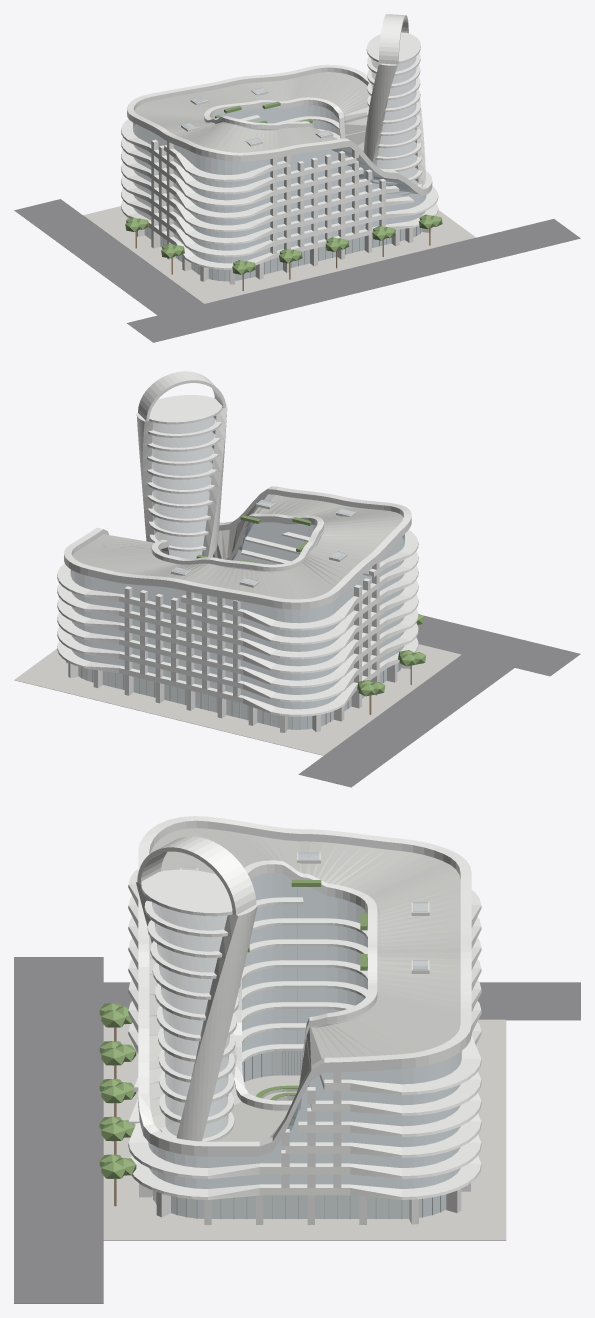
File: clay-sculptural-superblock-clay-v001.glb
3 views of the same model, one above another, from view 1: azimuth 30°, elevation 25°; view 2: azimuth 150°, elevation 25°; view 3: azimuth 270°, elevation 25° (orthographic). The views are drawn at different scales.
Parts seen in each view (by area): view 1: CLAY_WHITE, CLAY_ASPHALT, CLAY_GLASS, CLAY_ROOF, CLAY_PAVING, CLAY_PLANTING, CLAY_PALE; view 2: CLAY_WHITE, CLAY_GLASS, CLAY_ASPHALT, CLAY_ROOF, CLAY_PAVING, CLAY_PLANTING, CLAY_TRIM, CLAY_PALE; view 3: CLAY_WHITE, CLAY_GLASS, CLAY_ASPHALT, CLAY_ROOF, CLAY_PAVING, CLAY_PLANTING, CLAY_TRIM, CLAY_PALE.
Part boxes in pixels (x1,y1,x2,y2): CLAY_WHITE: [121, 14, 438, 284]; CLAY_ASPHALT: [14, 199, 580, 342]; CLAY_GLASS: [133, 57, 426, 281]; CLAY_ROOF: [134, 72, 419, 194]; CLAY_PAVING: [83, 206, 475, 303]; CLAY_PLANTING: [125, 101, 442, 274]; CLAY_PALE: [181, 87, 333, 146]; CLAY_WHITE: [57, 371, 418, 732]; CLAY_GLASS: [70, 416, 404, 729]; CLAY_ASPHALT: [298, 615, 580, 787]; CLAY_ROOF: [72, 494, 403, 599]; CLAY_PAVING: [14, 644, 461, 755]; CLAY_PLANTING: [196, 515, 426, 696]; CLAY_TRIM: [81, 663, 401, 729]; CLAY_PALE: [171, 499, 356, 587]; CLAY_WHITE: [128, 816, 481, 1224]; CLAY_GLASS: [148, 852, 461, 1218]; CLAY_ASPHALT: [14, 957, 580, 1303]; CLAY_ROOF: [149, 828, 460, 1141]; CLAY_PAVING: [103, 1019, 506, 1240]; CLAY_PLANTING: [99, 880, 367, 1178]; CLAY_TRIM: [152, 1051, 441, 1219]; CLAY_PALE: [180, 852, 429, 973].
Bounding box in the file's own units: 110 × 52.1 × 76.
